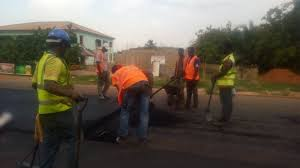helmet: (49, 28, 74, 44)
vest: (33, 56, 73, 112), (218, 56, 238, 87)
